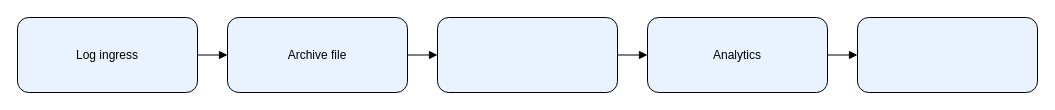
The diagram is 1055 pixels wide and 110 high, and some of its shapes have lost their labels. Each missing label, with the centre of its shape:
"Report" goes at (947,54).
"SQL queue" goes at (527,54).
